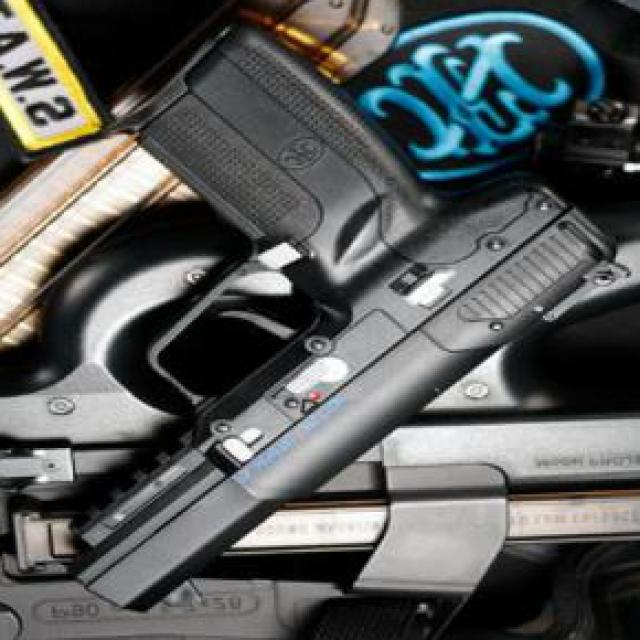pistol: (58, 16, 632, 614)
